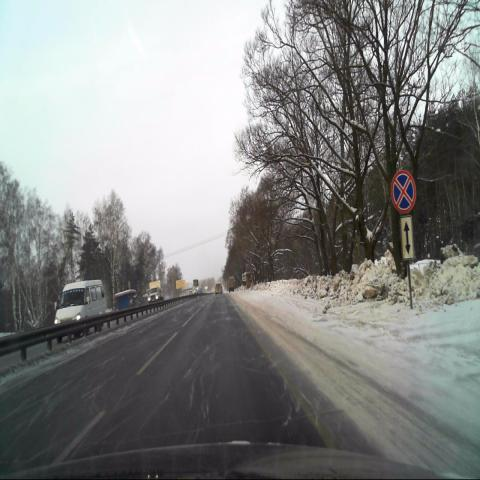3_27: (391, 170, 416, 214)
8_3_3: (399, 215, 414, 260)
